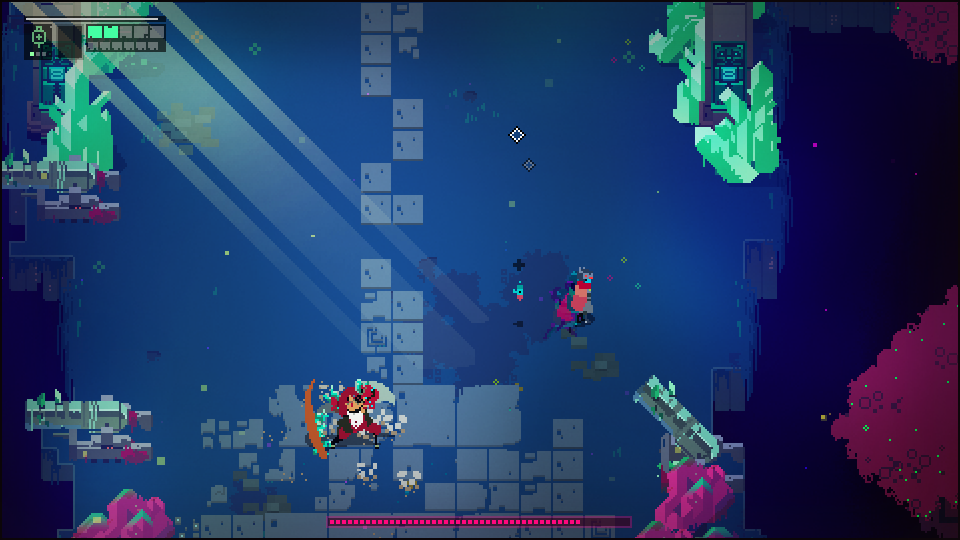hanged_man: (301, 370, 396, 465)
player: (573, 268, 600, 324)
